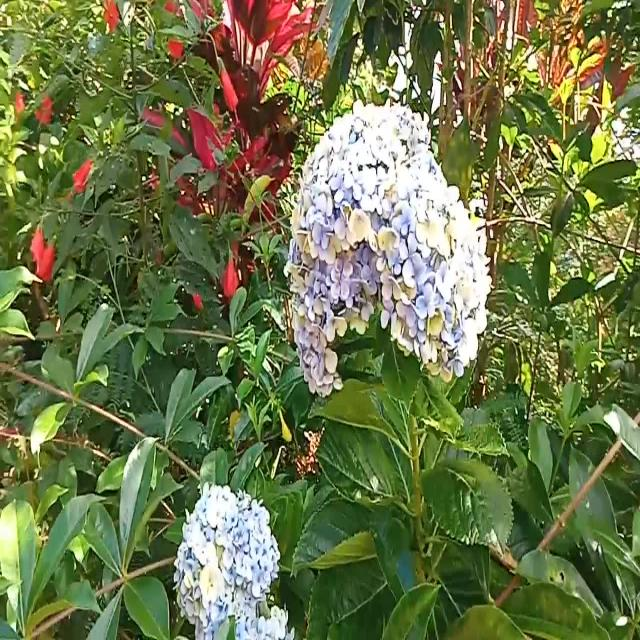Flower: (290, 86, 496, 402), (177, 482, 289, 640)
